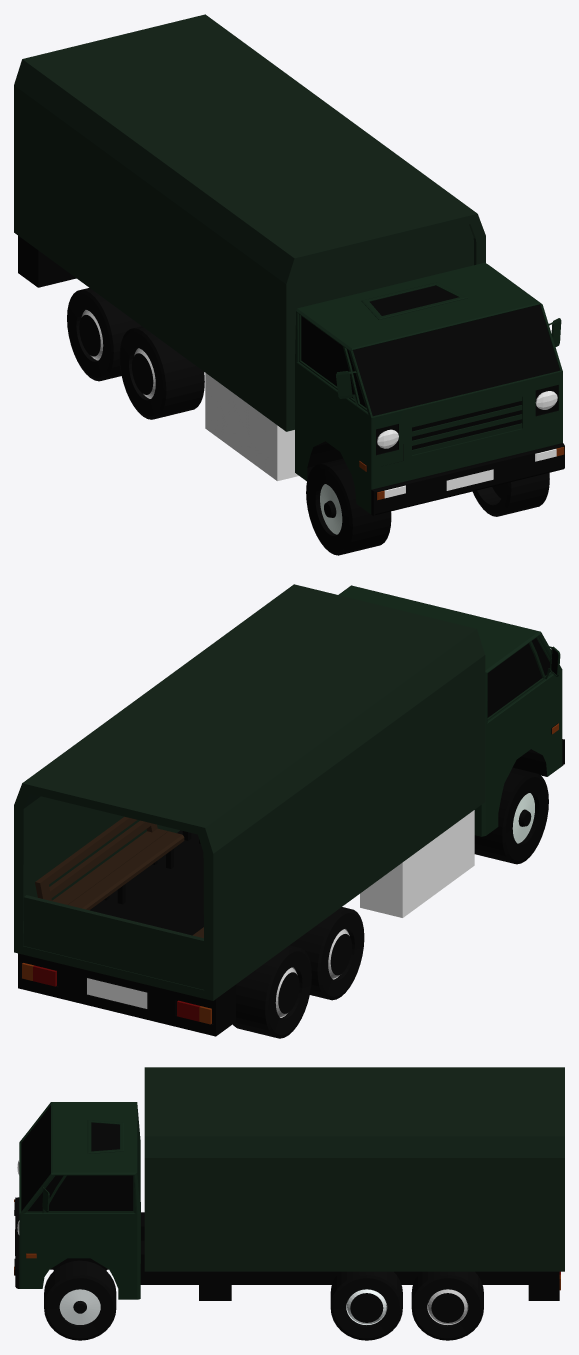
Rendered from trunk.obj.
3 renders of one model, top to bottom at view 1: azimuth 30°, elevation 25°; view 2: azimuth 150°, elevation 25°; view 3: azimuth 270°, elevation 25°, orthographic. The views are drawn at different scales.
Parts seen in each view (by area): view 1: кузов_Куб.001, осн_часть_Куб, колесо4_Окружность.003, колесо2_Окружность.001, колесо3_Окружность.008, колесо1_Окружность; view 2: кузов_Куб.001, осн_часть_Куб, скамейка4_Куб.005, колесо3_Окружность.008, колесо2_Окружность.001, колесо4_Окружность.003; view 3: кузов_Куб.001, осн_часть_Куб, колесо1_Окружность, колесо6_Окружность.010, колесо5_Окружность.009.
Part boxes in pixels (left/top/right/bottom): кузов_Куб.001: left=14, top=14, right=485, bottom=431; осн_часть_Куб: left=18, top=235, right=564, bottom=515; колесо4_Окружность.003: left=119, top=326, right=204, bottom=419; колесо2_Окружность.001: left=306, top=458, right=391, bottom=555; колесо3_Окружность.008: left=67, top=288, right=141, bottom=381; колесо1_Окружность: left=472, top=472, right=549, bottom=516; кузов_Куб.001: left=14, top=584, right=485, bottom=1000; осн_часть_Куб: left=18, top=585, right=564, bottom=1036; скамейка4_Куб.005: left=35, top=816, right=184, bottom=910; колесо3_Окружность.008: left=233, top=945, right=311, bottom=1038; колесо2_Окружность.001: left=474, top=767, right=548, bottom=864; колесо4_Окружность.003: left=290, top=907, right=364, bottom=1000; кузов_Куб.001: left=144, top=1067, right=564, bottom=1271; осн_часть_Куб: left=14, top=1102, right=560, bottom=1300; колесо1_Окружность: left=44, top=1260, right=116, bottom=1340; колесо6_Окружность.010: left=330, top=1271, right=402, bottom=1340; колесо5_Окружность.009: left=411, top=1271, right=483, bottom=1340.
Bounding box in the file's own units: 8.9 × 9.86 × 24.4.
